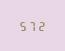five: (18, 20, 26, 31)
seven: (28, 20, 36, 31)
two: (37, 20, 45, 31)
